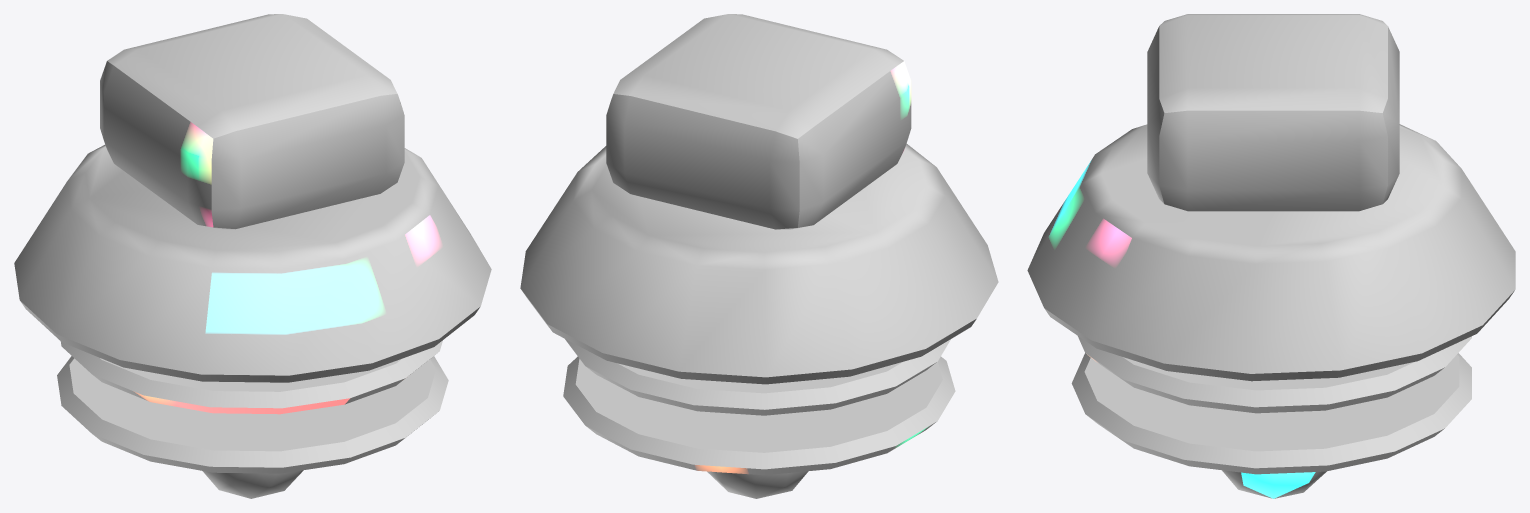
The model's file is Utility_EMP.fbx.
3 views of the same model, side by side, from view 1: azimuth 30°, elevation 25°; view 2: azimuth 150°, elevation 25°; view 3: azimuth 270°, elevation 25° (orthographic). The views are drawn at different scales.
Visible parts, largest first — view 1: Utility_EMP; view 2: Utility_EMP; view 3: Utility_EMP.
Boxes of the visible parts, left/top/right/bottom form: Utility_EMP: left=14, top=14, right=491, bottom=498; Utility_EMP: left=520, top=14, right=998, bottom=498; Utility_EMP: left=1027, top=14, right=1515, bottom=498.
Bounding box in the file's own units: 0.5826 × 0.58 × 0.5801.
